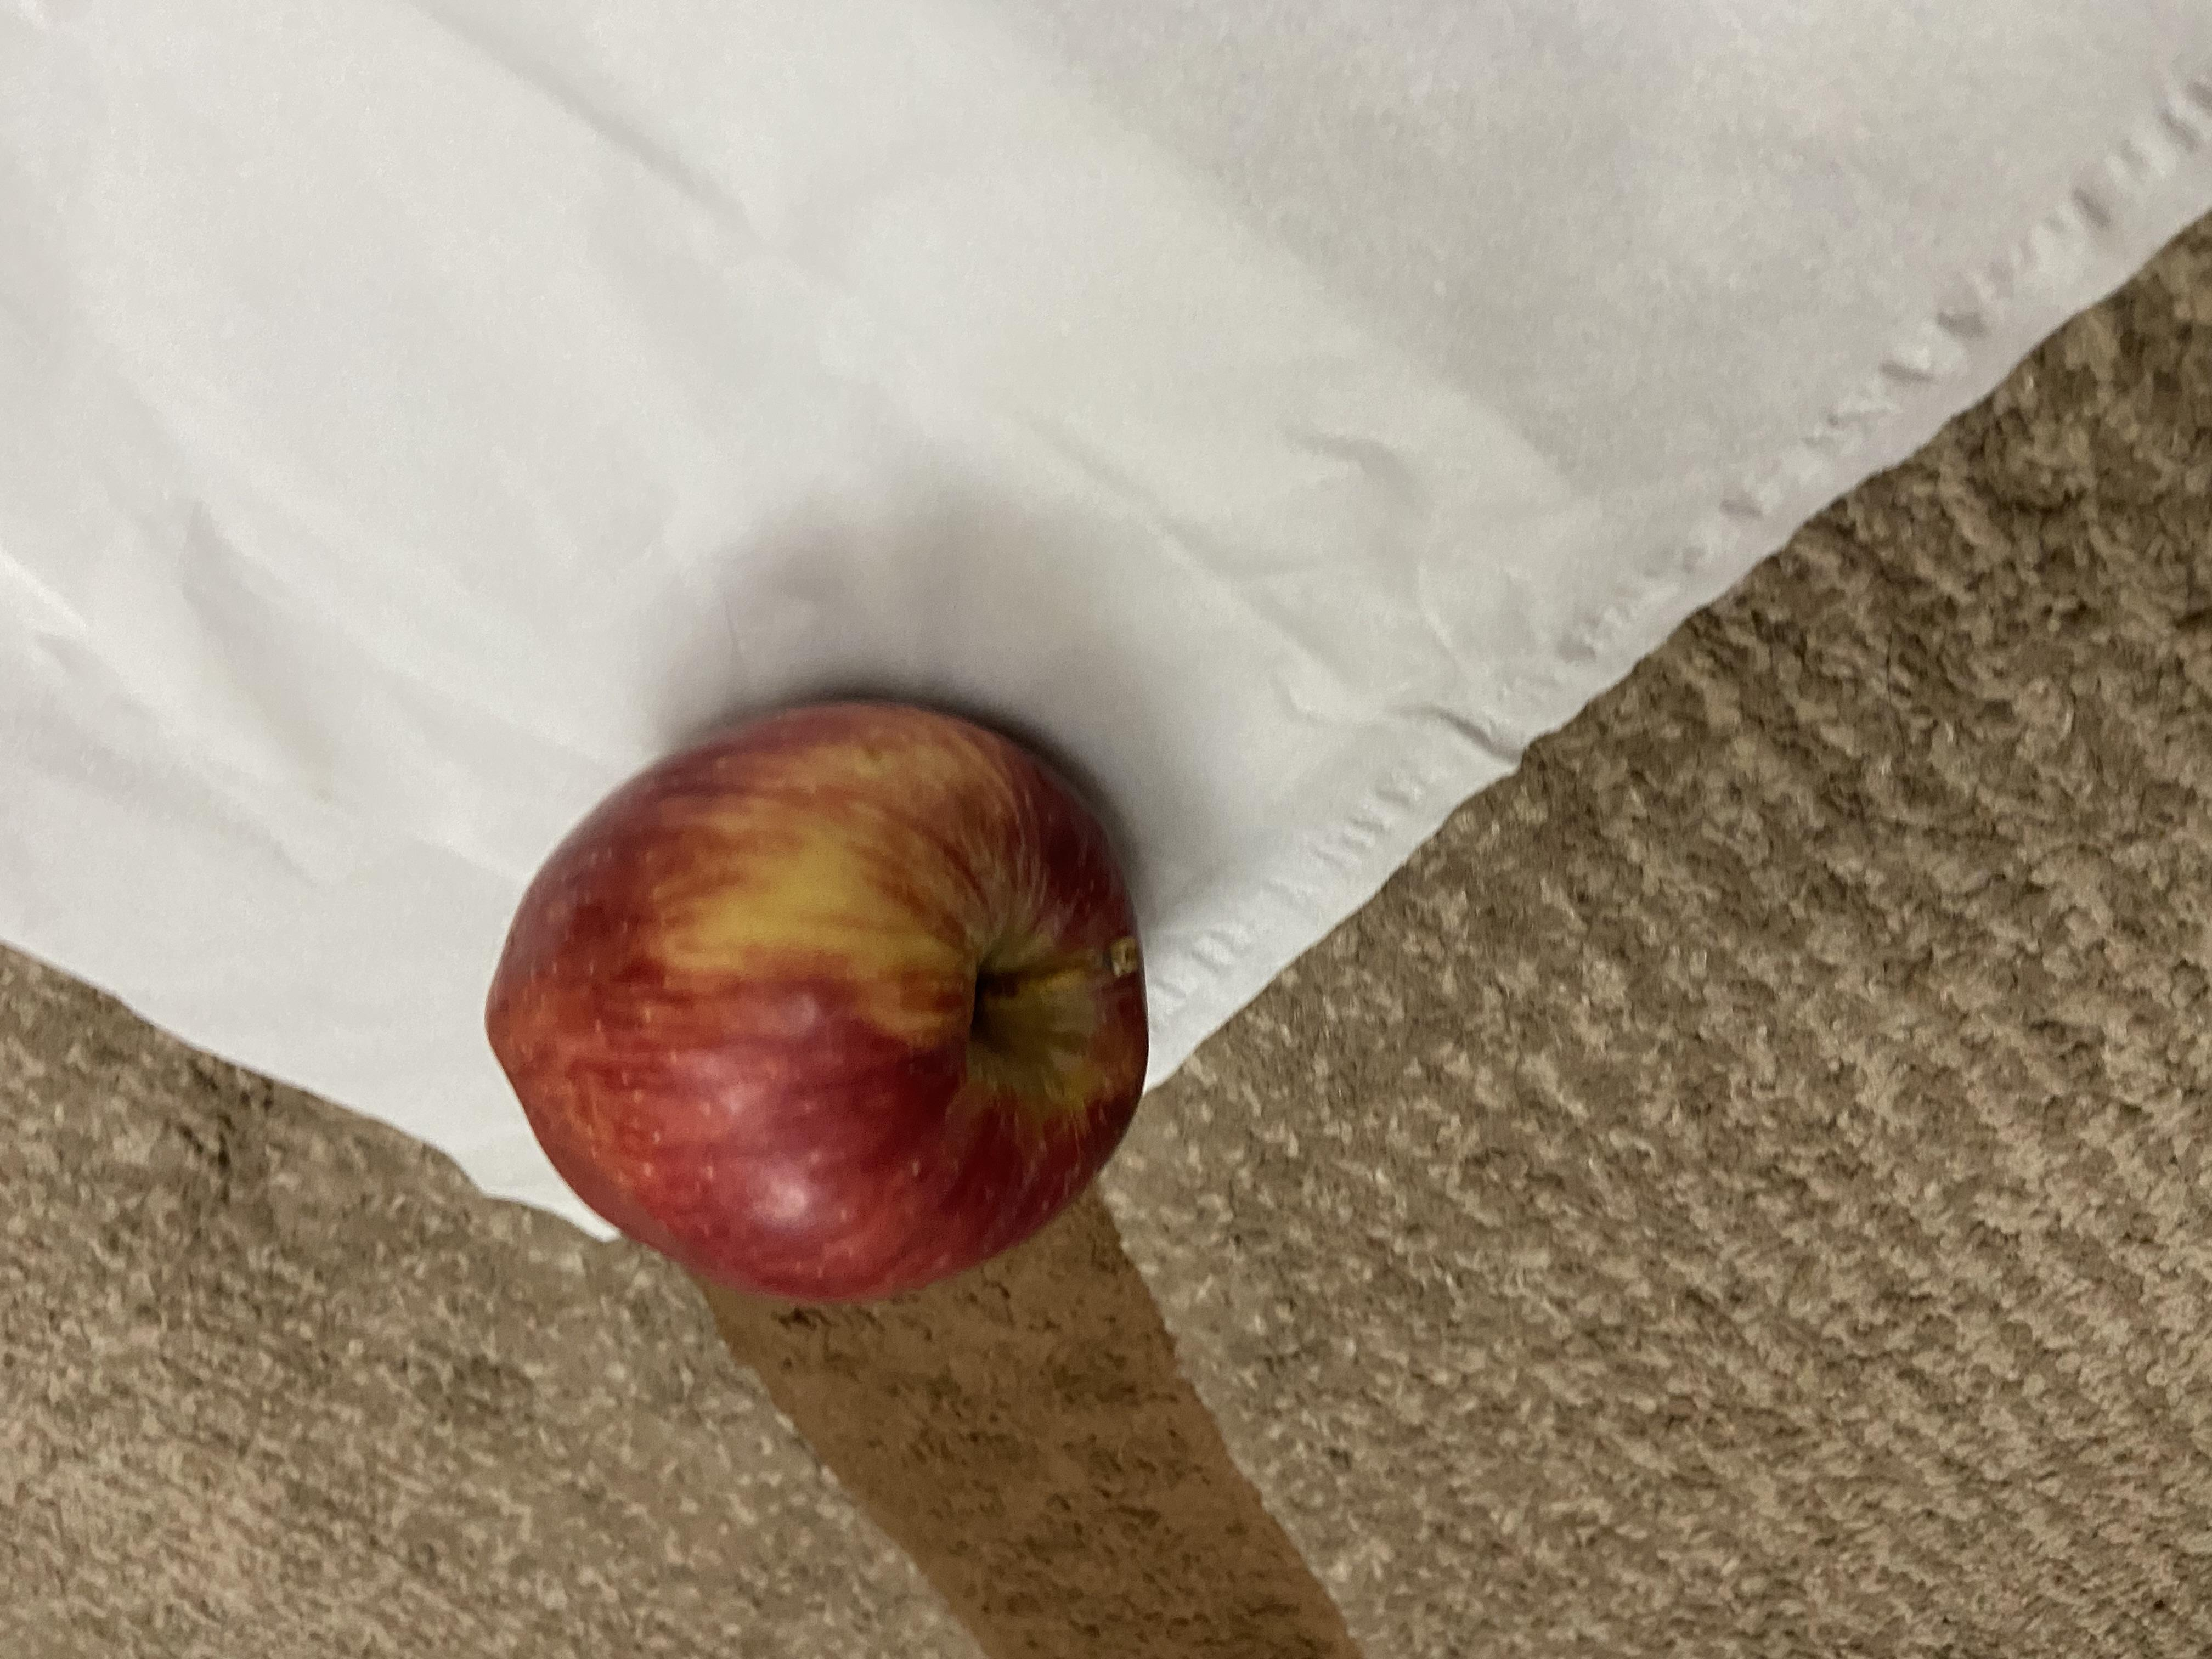Apple: (479, 669, 1181, 1321)
